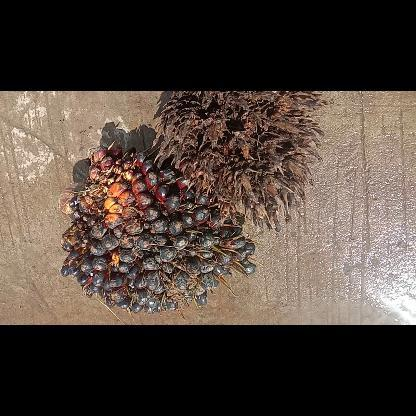Janjang kosong: (152, 91, 326, 231)
TBS mentah: (57, 140, 260, 324)
